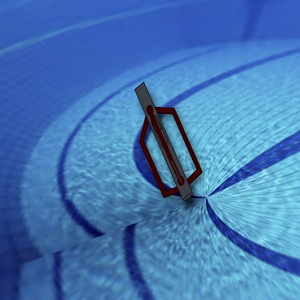submarine: (118, 71, 207, 208)
